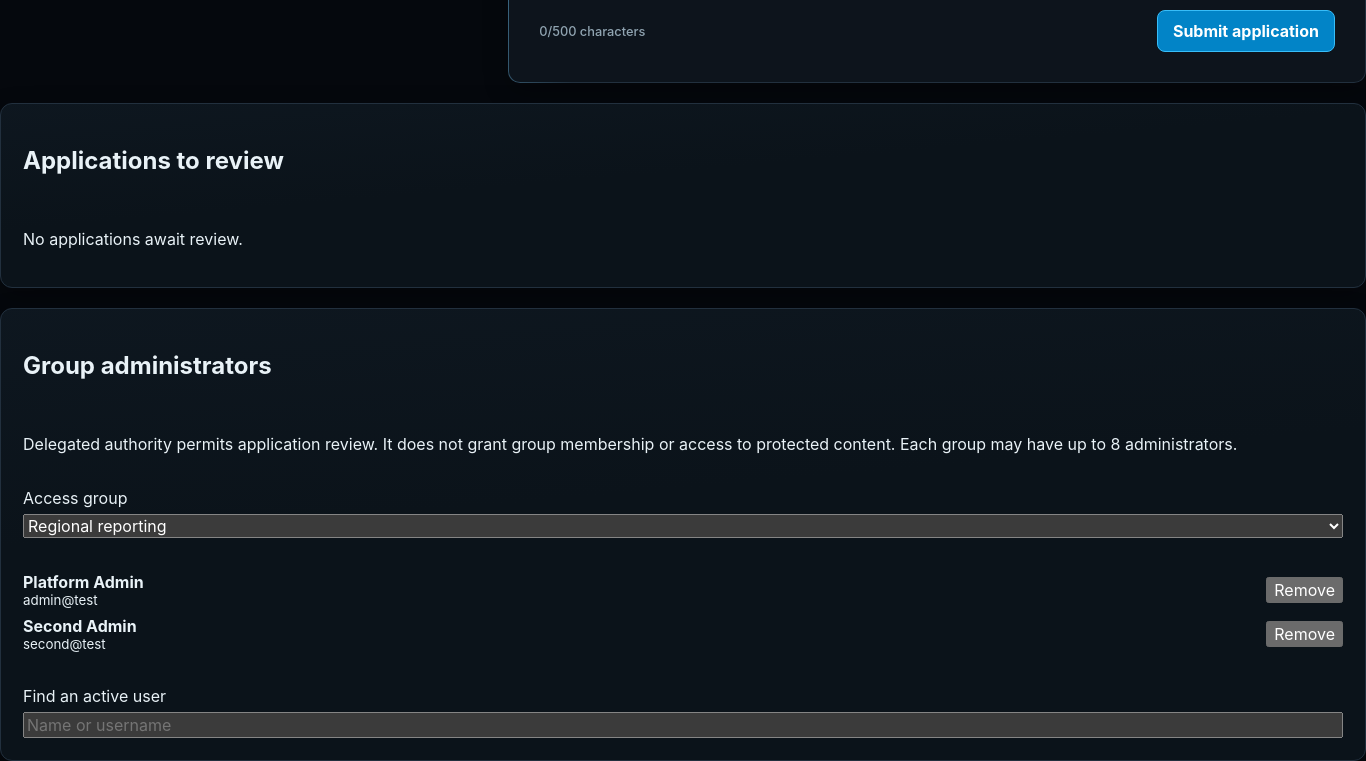
Test: lets a platform administrator manage delegated administrators
The image size is (1366, 761).
(page scrolled)
Expected: the text "Platform Admin" is shown, [23, 572, 144, 592]
Type "Can" into the field labelled "Find an active user" at [683, 725], box [23, 712, 1343, 738]
(page scrolled)
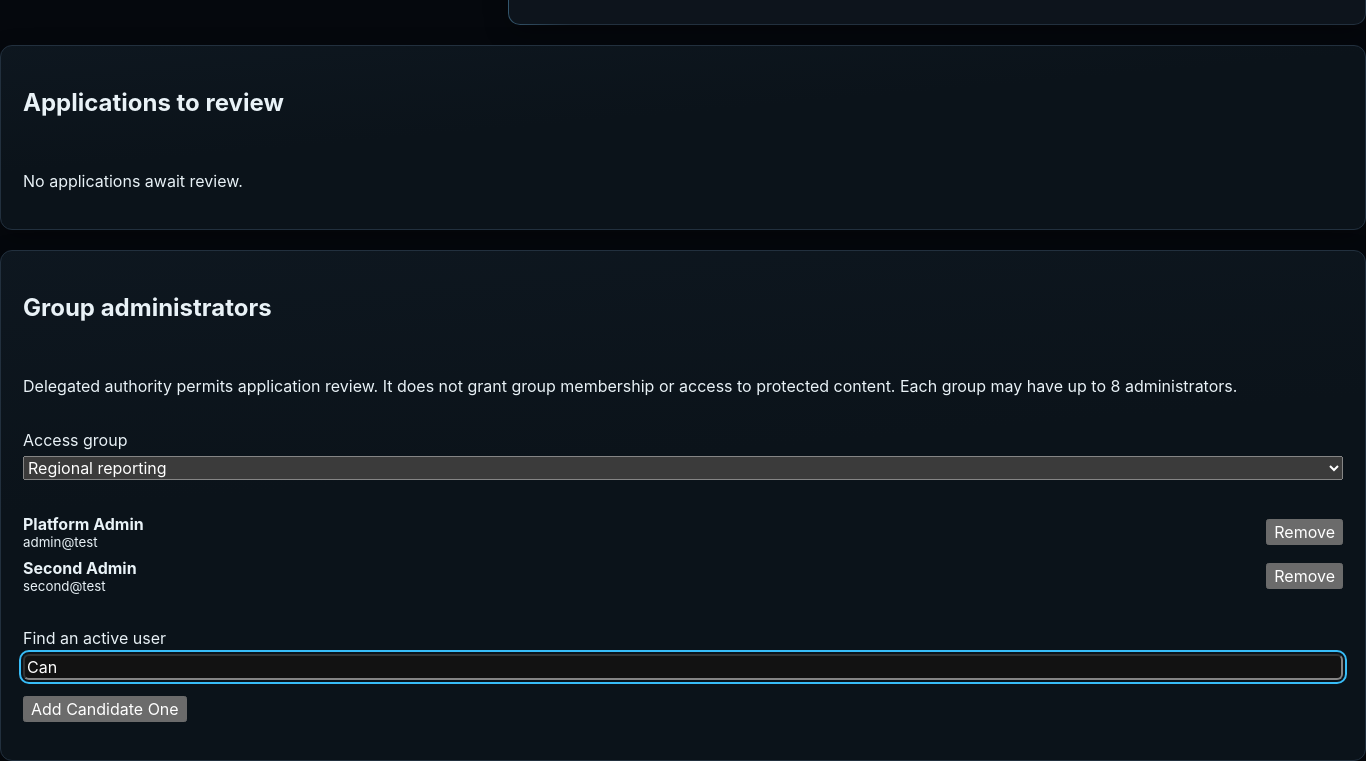
Click the button "Add Candidate One" at [105, 709], box [23, 696, 187, 722]
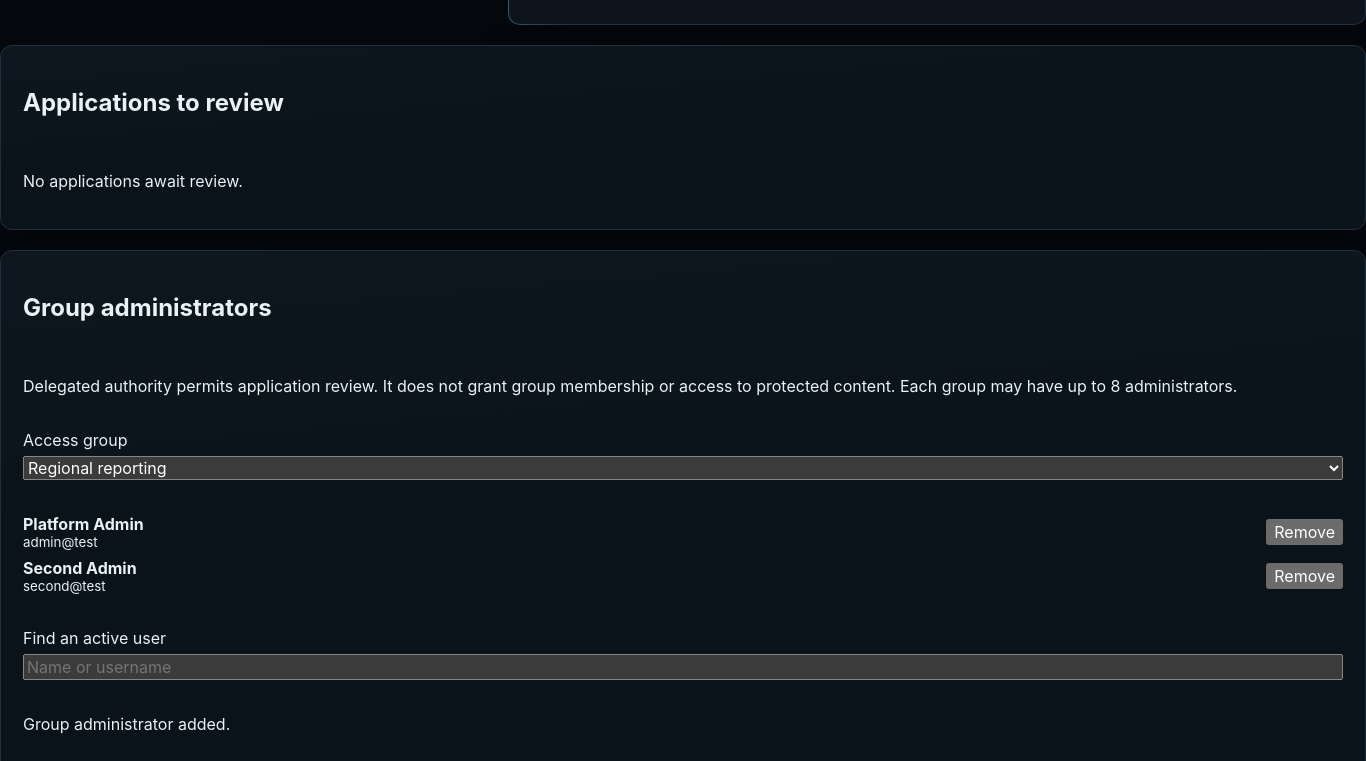
Expected: the text "Group administrator added." is shown, [23, 714, 230, 734]
Click the button with aria-label "Remove Second Admin as group administrator" at [1305, 576], box [1266, 563, 1343, 589]
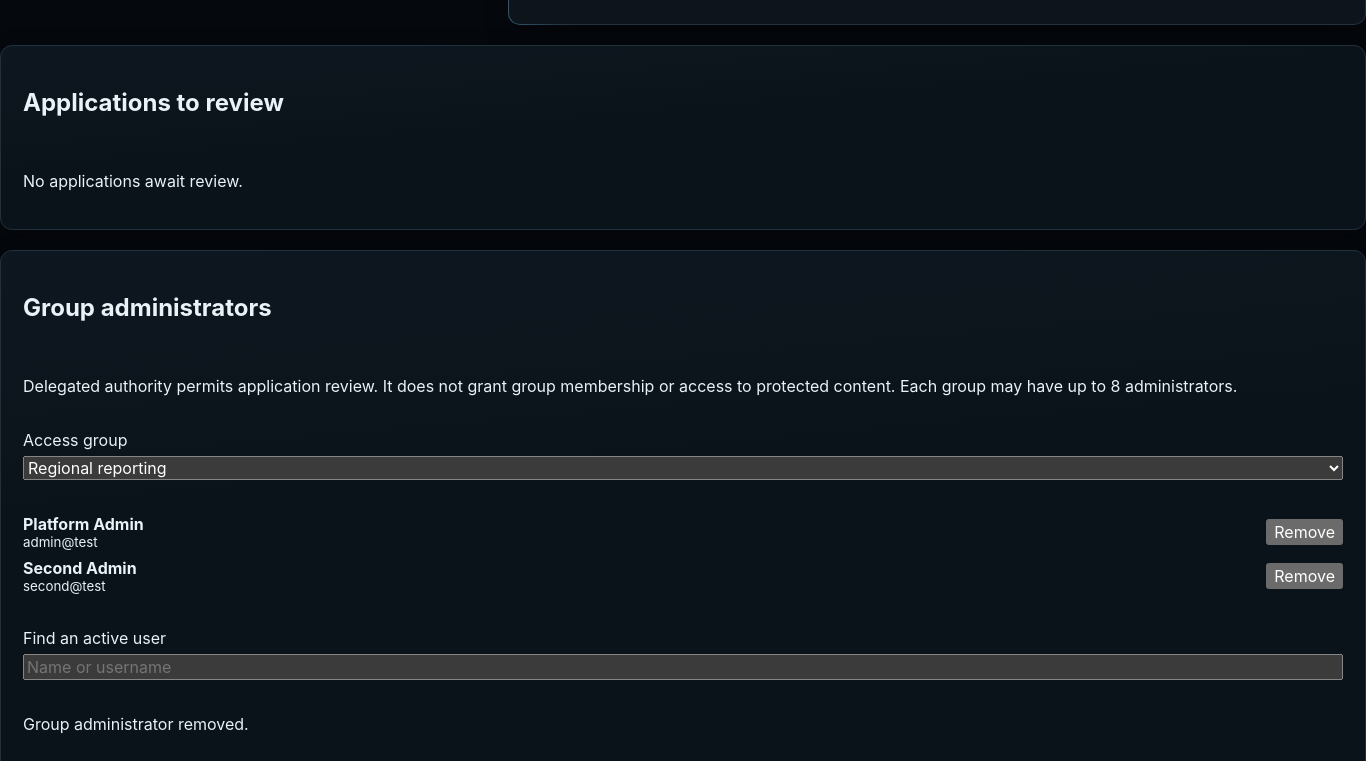
Expected: the text "Group administrator removed." is shown, [23, 714, 249, 734]
